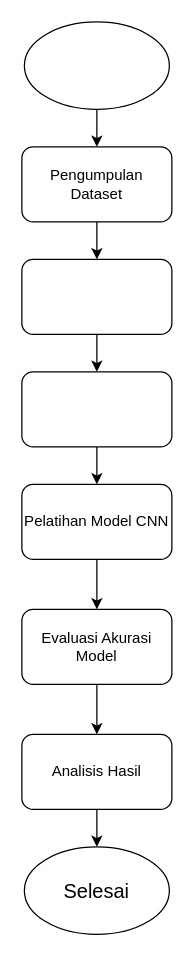
Image size: 194x956. Some labels were removed from this diagram. The box of each missing label's shape, as (x1, y1, x2, y2) in pixels:
Konversi ke Spectrogram: (21, 371, 172, 447)
Mulai: (23, 21, 169, 109)
Preprocessing Audio: (21, 258, 172, 334)
